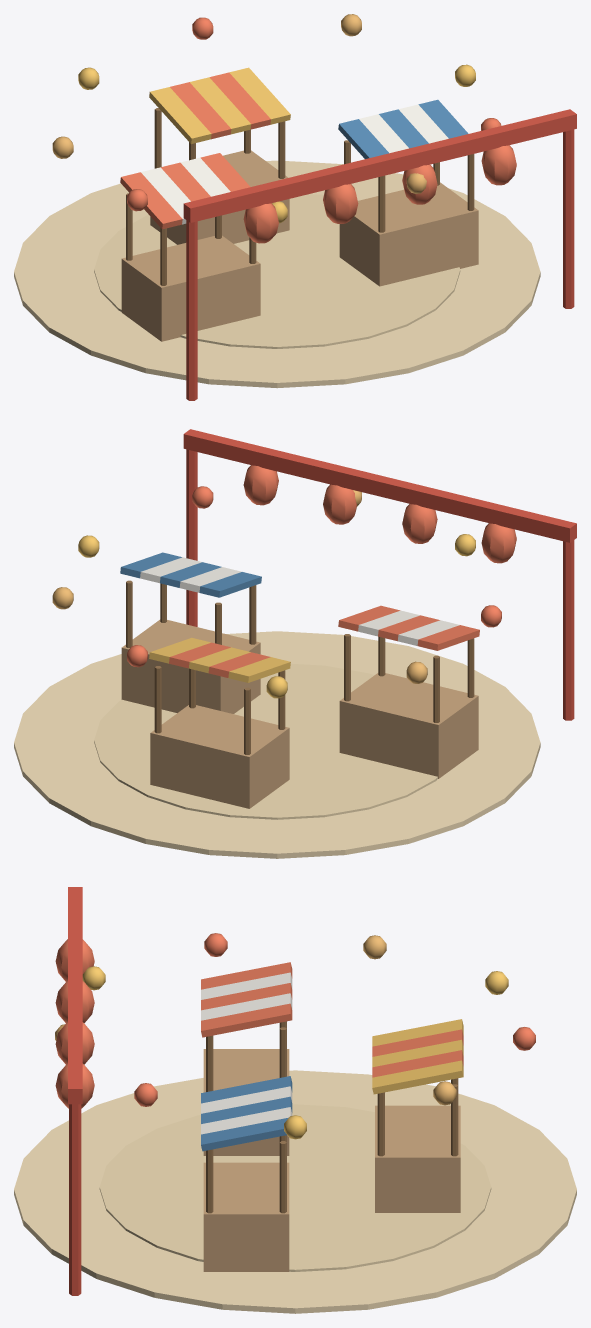
File: m_market.gltf
3 views of the same model, one above another, from view 1: azimuth 30°, elevation 25°; view 2: azimuth 150°, elevation 25°; view 3: azimuth 270°, elevation 25° (orthographic). The views are drawn at different scales.
Parts seen in each view (by area): view 1: m_market; view 2: m_market; view 3: m_market.
Part boxes in pixels (box(x1,y1,x2,y2)): m_market: box(14, 14, 576, 400); m_market: box(14, 429, 576, 858); m_market: box(14, 887, 576, 1313).
Size of the model in its own units: 4.6 by 1.87 by 4.6.
Materials: 1 (1 with a texture image).
